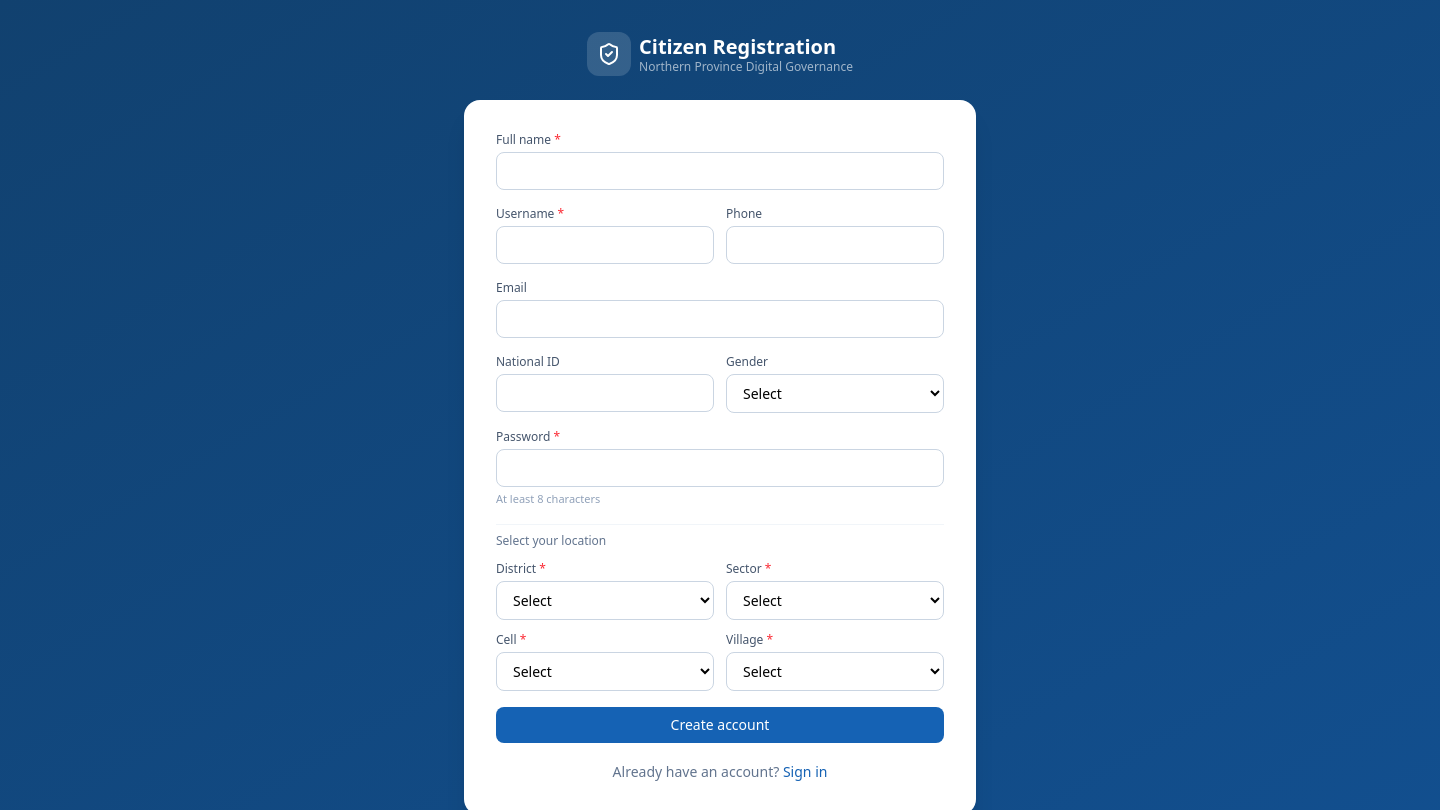
Test case: Register › submits the form and shows the pending approval confirmation
This screenshot has width=1440, height=810.
Step 1. Type "New Citizen" into the field labelled "Full name *" → (720, 171), box [496, 152, 944, 190]
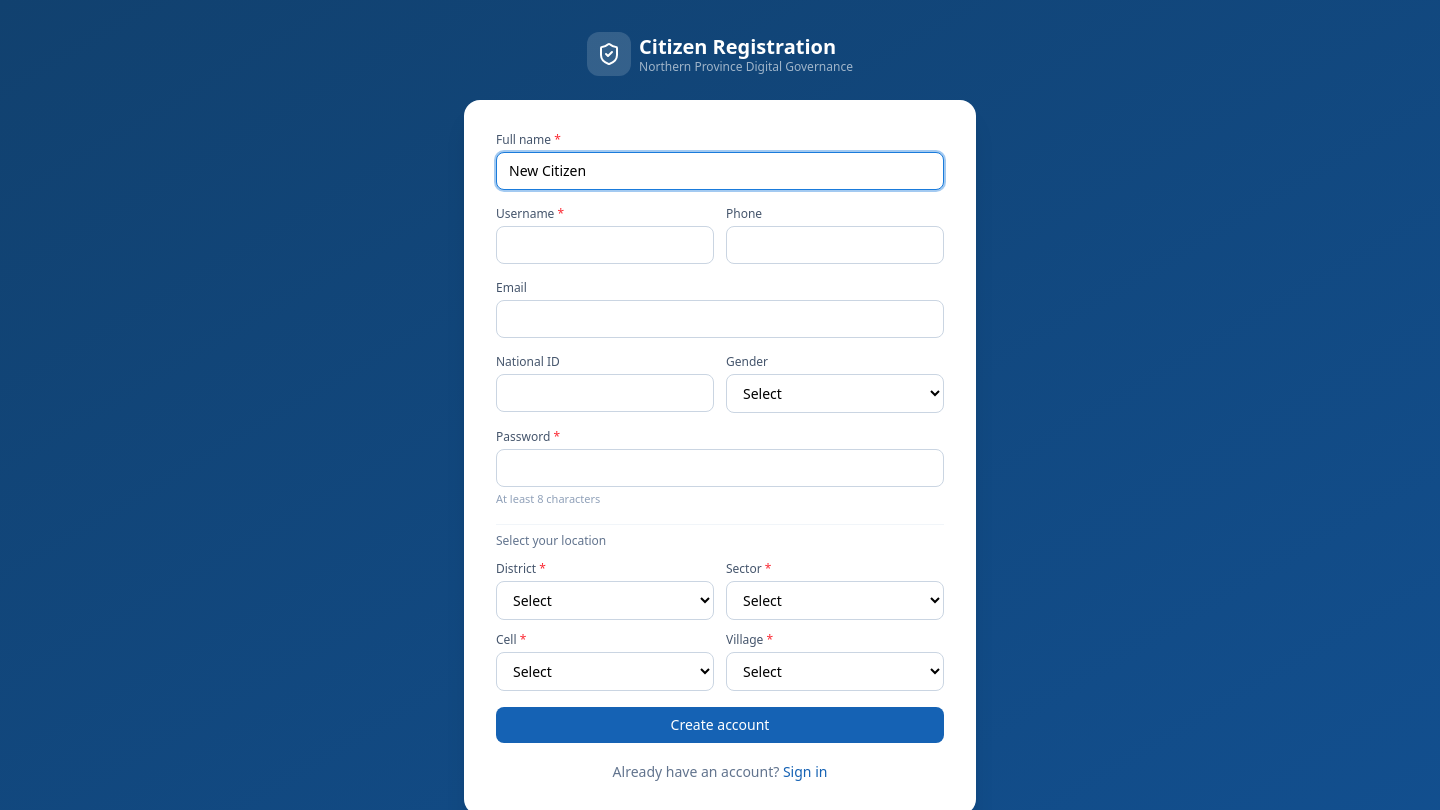
Step 2. Type "newcitizen" into the field labelled "Username *" → (605, 245), box [496, 226, 714, 264]
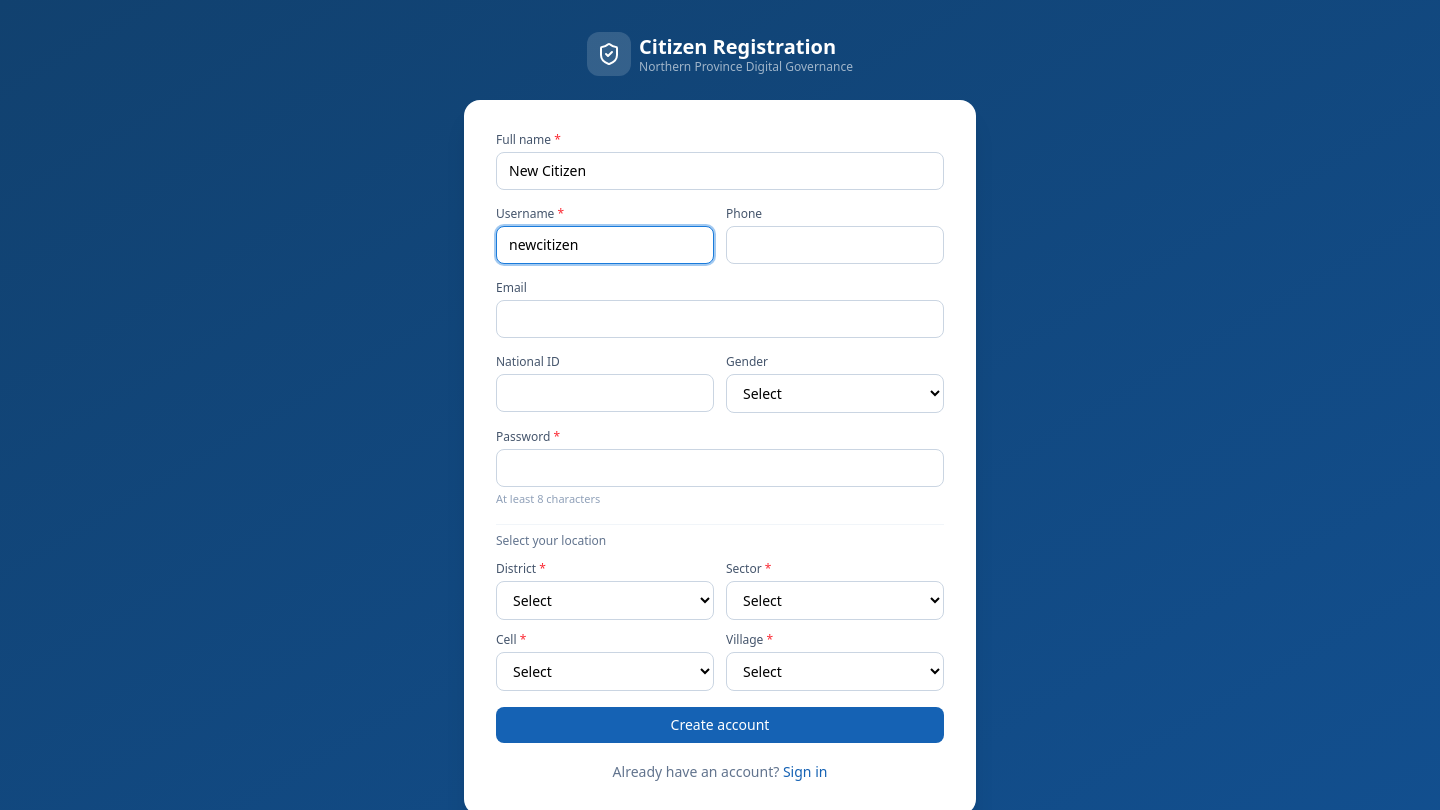
Step 3. Type "Password123!" into the password field labelled "Password * At least 8 characters" → (720, 468), box [496, 449, 944, 487]
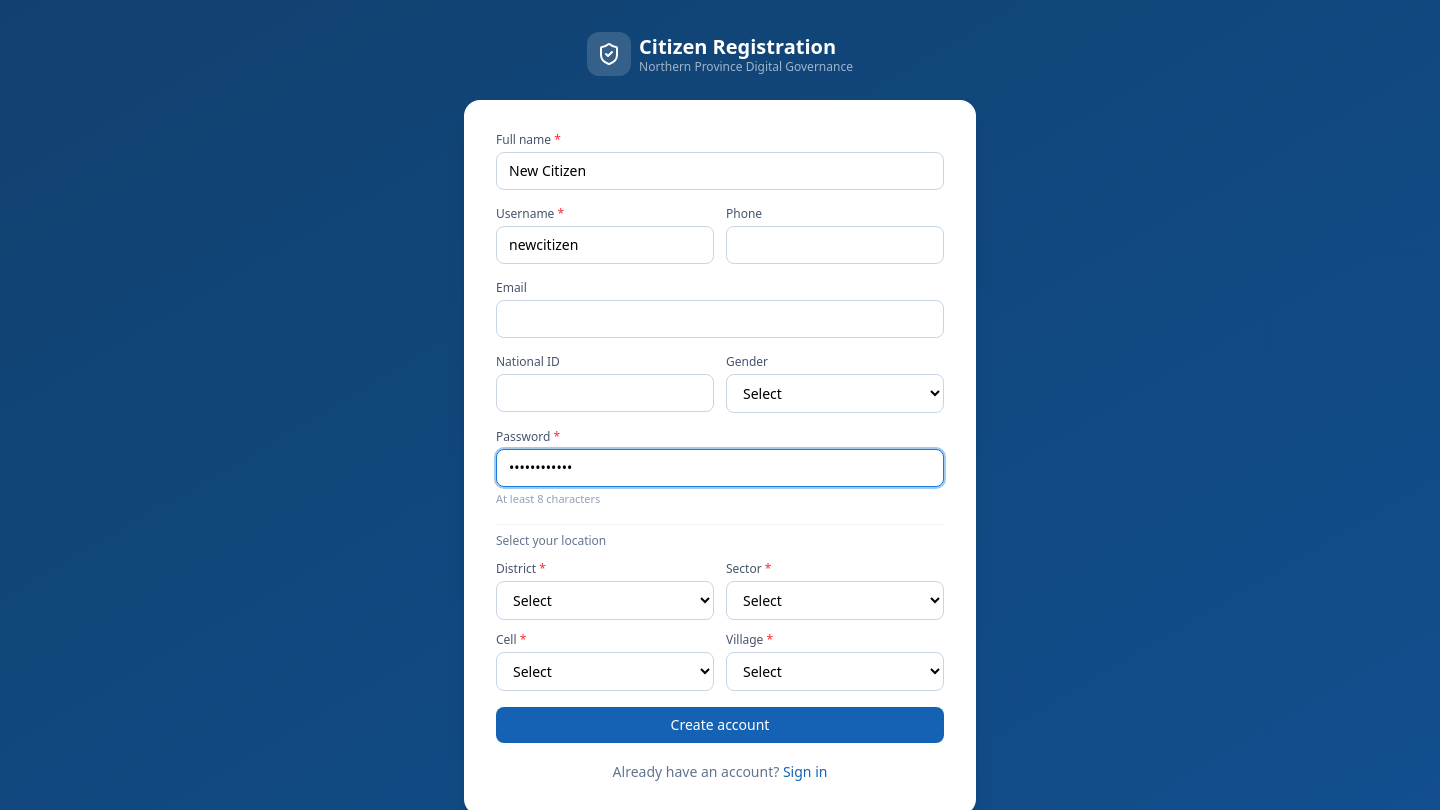
Step 4. Click the button "Create account" → (720, 724), box [496, 706, 944, 742]
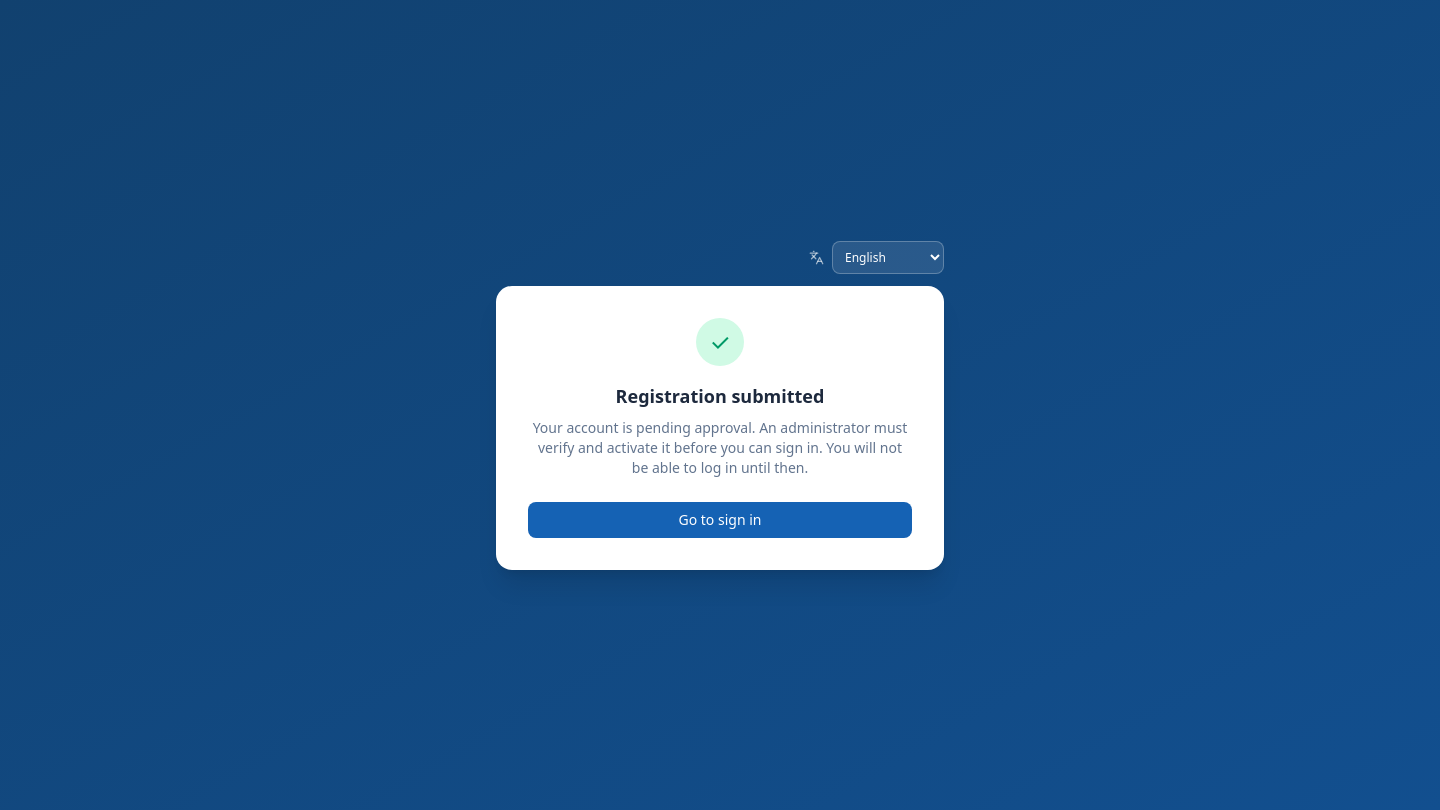
Result: the heading "Registration submitted" is shown at [616, 384, 824, 408]
Result: the text "pending approval" is shown at [533, 418, 907, 476]
